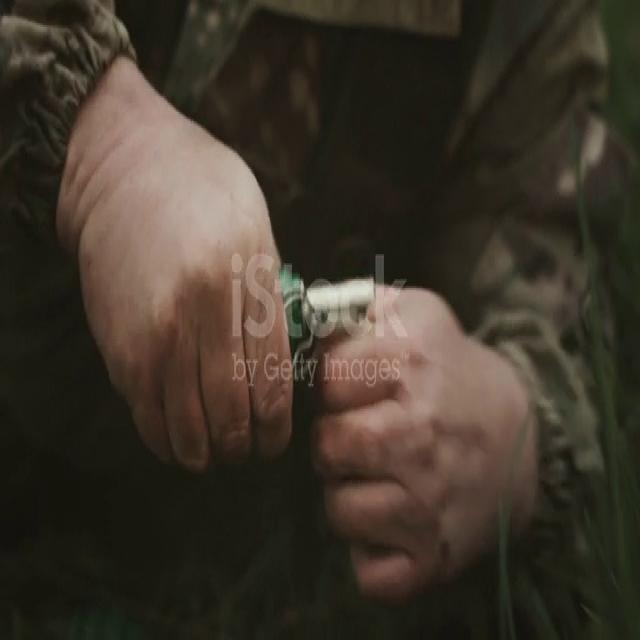grenade: (290, 271, 375, 348)
